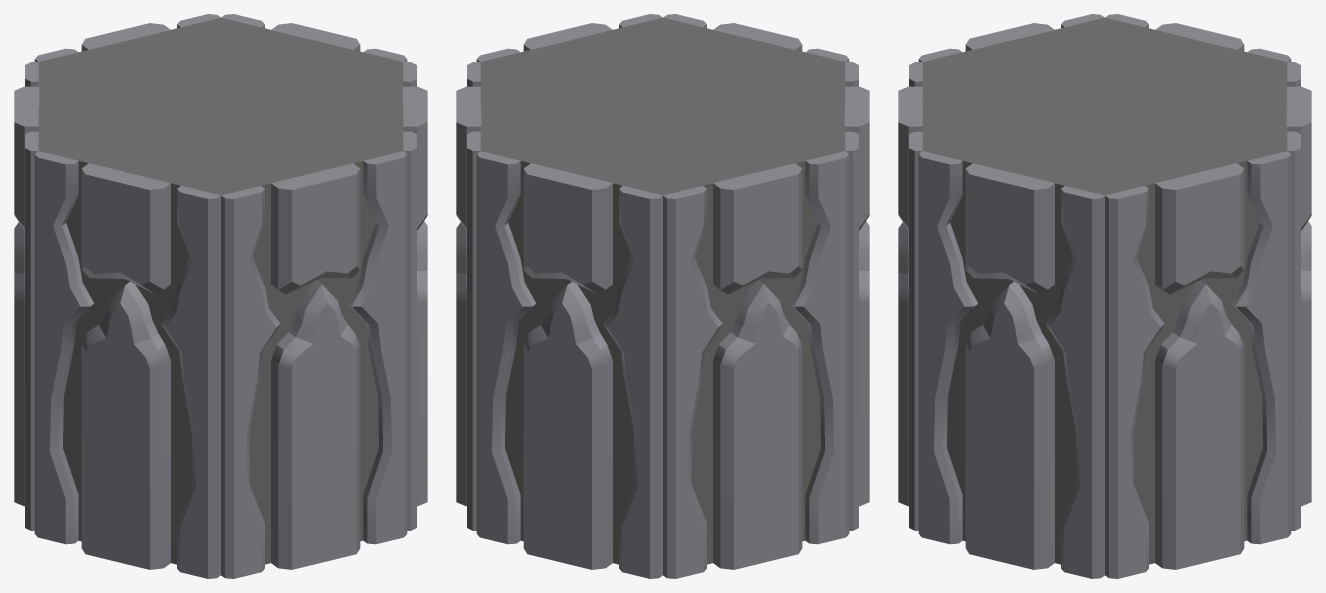
The model's file is _TOWER_3_BASE_1.fbx.
The picture shows the model from 3 angles, left to right: view 1: azimuth 30°, elevation 25°; view 2: azimuth 150°, elevation 25°; view 3: azimuth 270°, elevation 25°; orthographic projection.
Parts seen in each view (by area): view 1: TOWER_3_BASE_1; view 2: TOWER_3_BASE_1; view 3: TOWER_3_BASE_1.
Part boxes in pixels (x1,y1,x2,y2): TOWER_3_BASE_1: (14, 14, 427, 578); TOWER_3_BASE_1: (456, 14, 869, 578); TOWER_3_BASE_1: (898, 14, 1311, 578).
Size of the model in its own units: 352 by 337 by 332.
